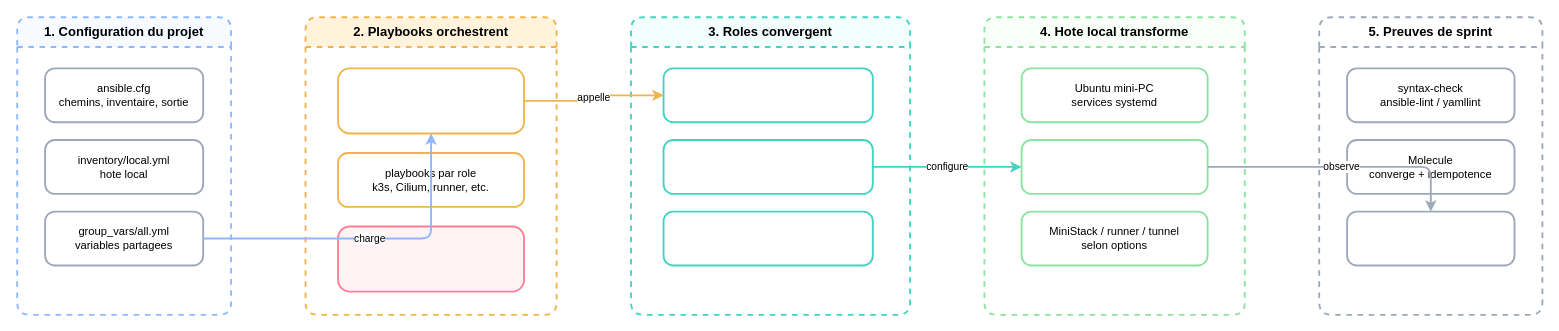
Image size: 1559x331. Some labels were removed from this diagram. The shapes that lost their labels are listed below. From the top down, each one's centre as x and y in pixels, then its label:
At pixel 431 100: "bootstrap.yml k3s -> Cilium -> MiniStack -> hardening".
At pixel 767 95: "k3s-install cluster local + kubeconfig".
At pixel 767 166: "cilium-setup CNI + Hubble + CoreDNS".
At pixel 1114 166: "k3s API + kubectl cluster pilotable".
At pixel 431 258: "playbooks futurs runner / RDS / Gitea apply=false par defaut".
At pixel 767 238: "ministack / tunnel / runner services de lab et CI".
At pixel 1430 238: "runtime checks Ready, OK, changed=0".
